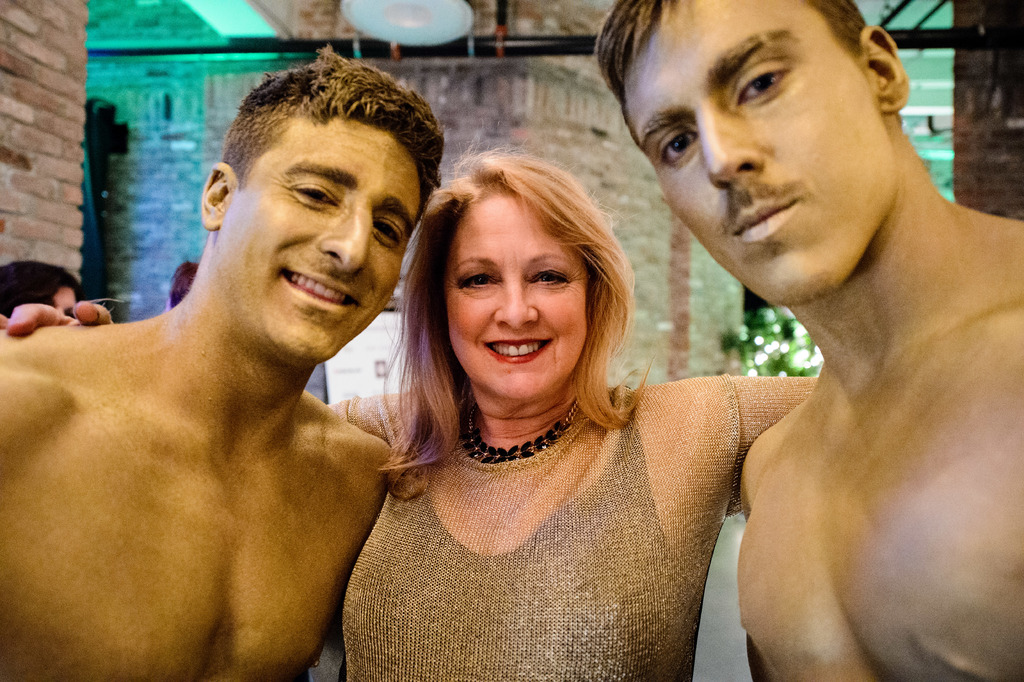Person: (703, 0, 1024, 682)
